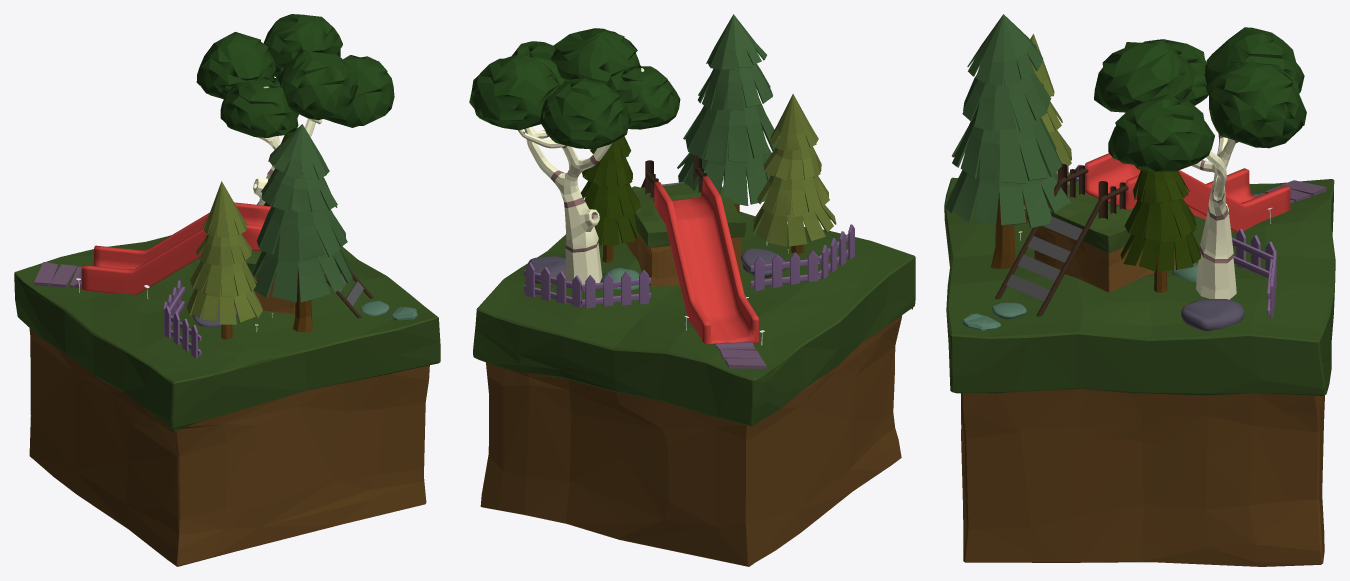
The model's file is tile_slide.min.gltf.
3 views of the same model, side by side, from view 1: azimuth 30°, elevation 25°; view 2: azimuth 150°, elevation 25°; view 3: azimuth 270°, elevation 25° (orthographic). The views are drawn at different scales.
Parts seen in each view (by area): view 1: CENTERED.001; view 2: CENTERED.001; view 3: CENTERED.001.
Boxes of the visible parts, x1,y1,x2,y2 form: CENTERED.001: [14, 14, 440, 566]; CENTERED.001: [469, 14, 915, 566]; CENTERED.001: [944, 14, 1335, 566].
Size of the model in its own units: 1.19 by 1.53 by 1.09.
